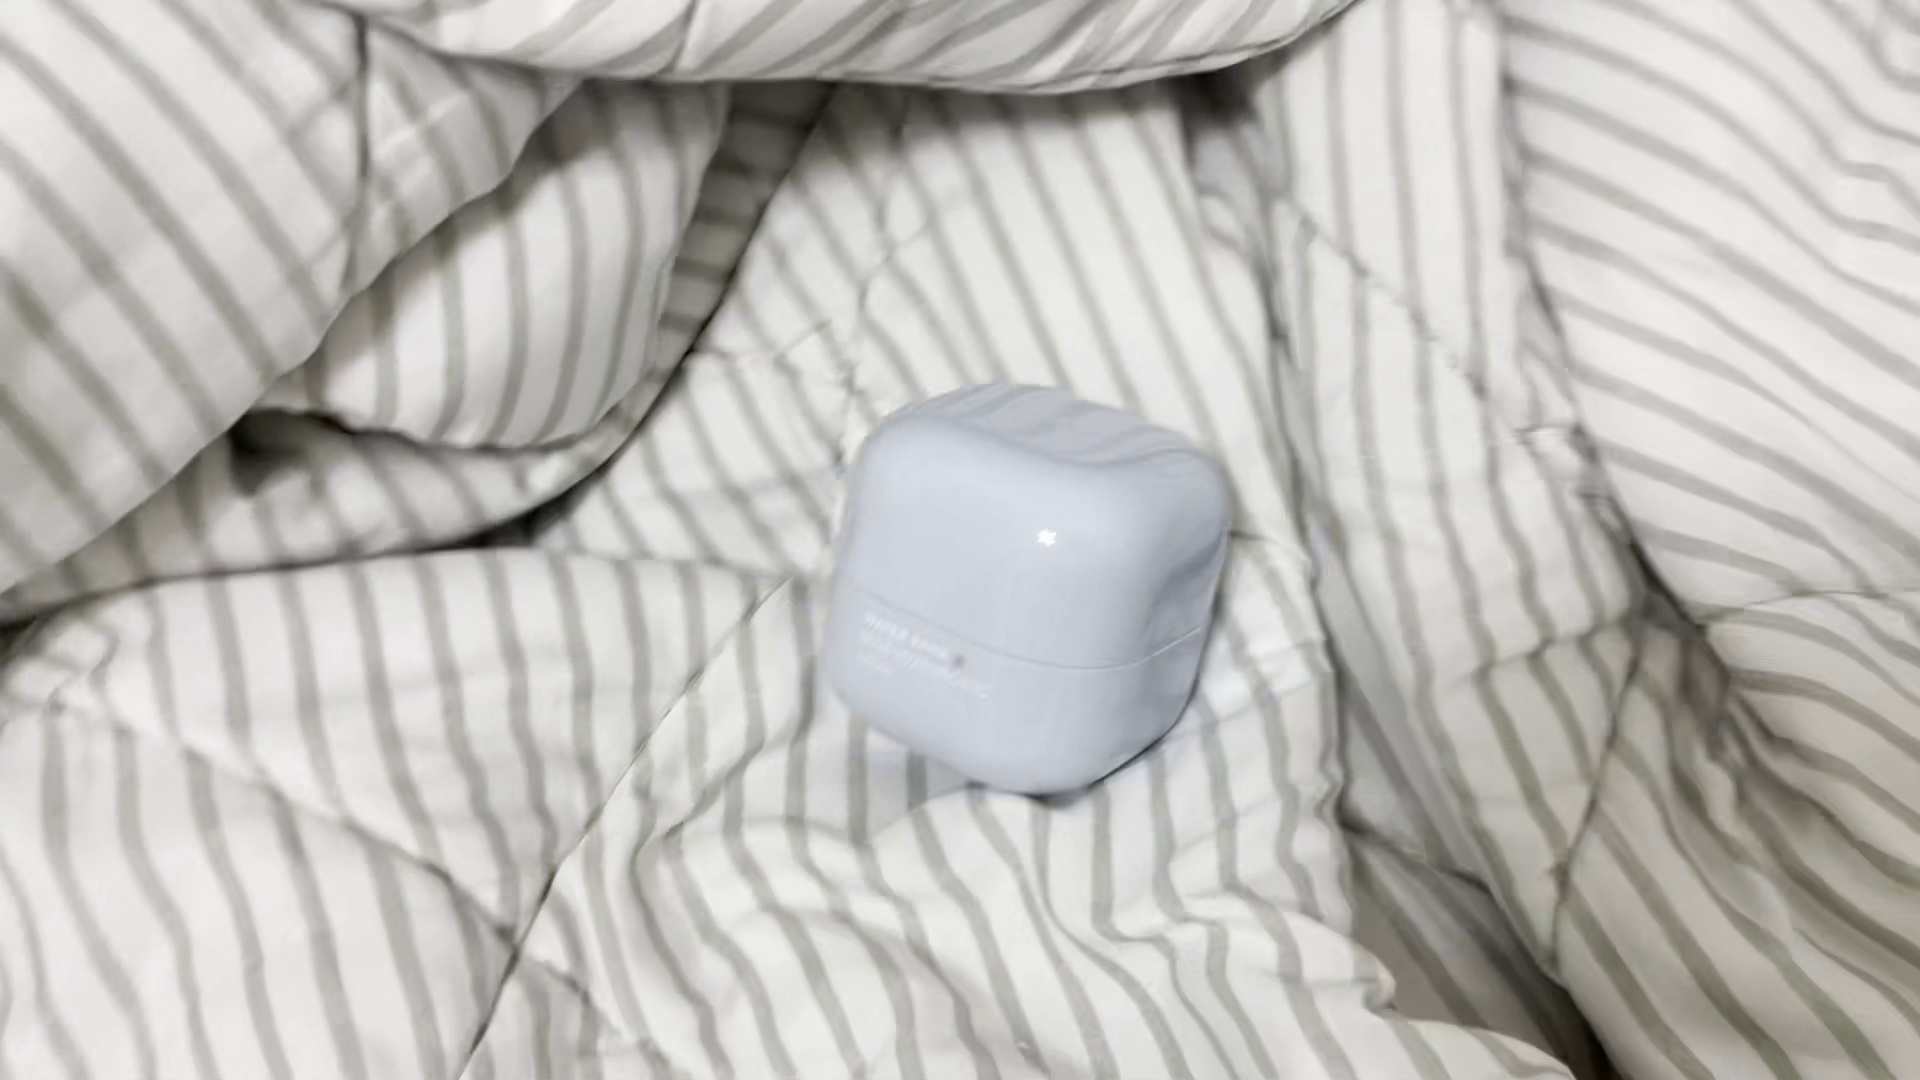cream: (825, 376, 1224, 800)
